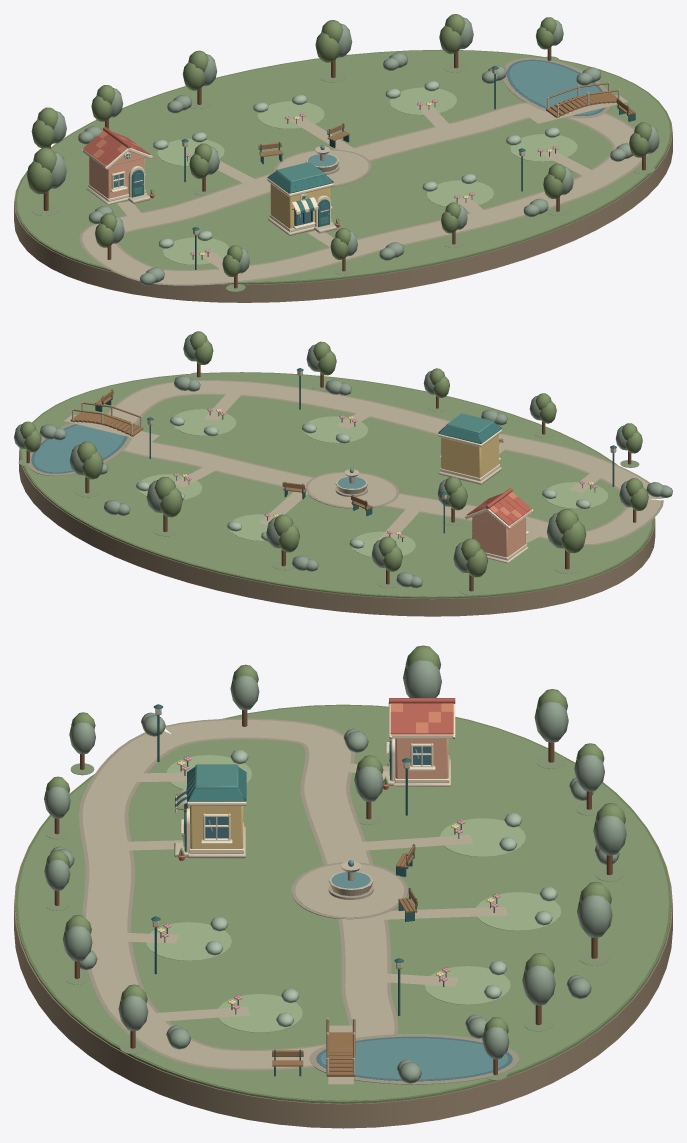
File: town_early.glb
3 renders of one model, top to bottom at view 1: azimuth 30°, elevation 25°; view 2: azimuth 150°, elevation 25°; view 3: azimuth 270°, elevation 25°, orthographic. The views are drawn at different scales.
Visible parts, largest first — view 1: town_environment_runtime, coffee • 1, home • 1, Reserved garden • hall, Reserved garden • books, Reserved garden • market, Reserved garden • craft, Reserved garden • bread, Reserved garden • flowers; view 2: town_environment_runtime, coffee • 1, home • 1, Reserved garden • craft, Reserved garden • bread, Reserved garden • market, Reserved garden • flowers, Reserved garden • hall, Reserved garden • books; view 3: town_environment_runtime, coffee • 1, home • 1, Reserved garden • books, Reserved garden • hall, Reserved garden • flowers, Reserved garden • market, Reserved garden • bread, Reserved garden • craft.
Part boxes in pixels (x1,y1,x2,y2): town_environment_runtime: (14, 14, 672, 302); coffee • 1: (267, 162, 340, 235); home • 1: (81, 127, 154, 204); Reserved garden • hall: (257, 101, 324, 128); Reserved garden • books: (390, 87, 456, 115); Reserved garden • market: (510, 134, 577, 161); Reserved garden • craft: (163, 237, 229, 264); Reserved garden • bread: (427, 180, 493, 206); Reserved garden • flowers: (157, 138, 224, 166); town_environment_runtime: (14, 331, 672, 616); coffee • 1: (438, 413, 503, 484); home • 1: (464, 488, 533, 563); Reserved garden • craft: (544, 482, 608, 508); Reserved garden • bread: (304, 416, 368, 443); Reserved garden • market: (172, 409, 236, 435); Reserved garden • flowers: (352, 531, 415, 557); Reserved garden • hall: (229, 514, 267, 541); Reserved garden • books: (138, 474, 202, 499); town_environment_runtime: (14, 645, 672, 1128); coffee • 1: (174, 764, 246, 860); home • 1: (382, 698, 455, 789); Reserved garden • books: (424, 966, 510, 1004); Reserved garden • hall: (476, 892, 561, 930); Reserved garden • flowers: (440, 818, 525, 856); Reserved garden • market: (218, 994, 302, 1032); Reserved garden • bread: (146, 922, 231, 960); Reserved garden • craft: (166, 755, 252, 789).
Size of the model in its own units: 37.2 by 4.7 by 26.
